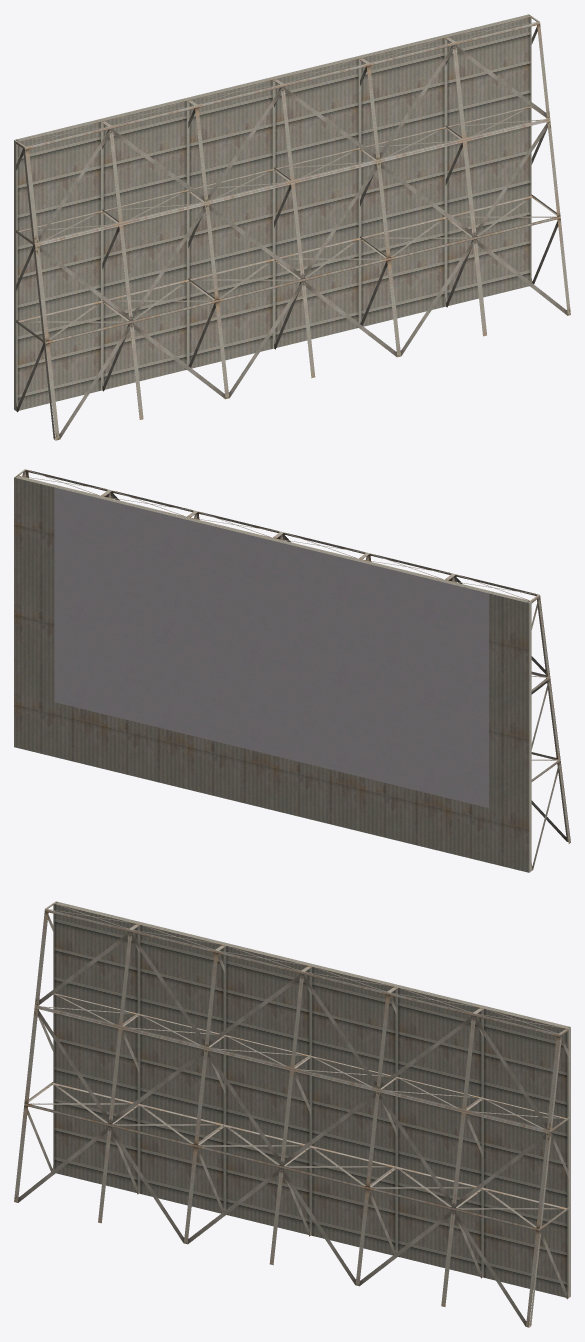
File: drvin_screen.obj
3 renders of one model, top to bottom at view 1: azimuth 30°, elevation 25°; view 2: azimuth 150°, elevation 25°; view 3: azimuth 330°, elevation 25°, orthographic.
Visible parts, largest first — view 1: drvin_screen; view 2: drvin_screen; view 3: drvin_screen.
Part boxes in pixels (left/top/right/bottom): drvin_screen: left=14, top=14, right=570, bottom=440; drvin_screen: left=14, top=469, right=570, bottom=872; drvin_screen: left=14, top=901, right=570, bottom=1327.
Bounding box in the file's own units: 21.4 × 10.74 × 3.01.
Materials: 5 (5 with a texture image).
